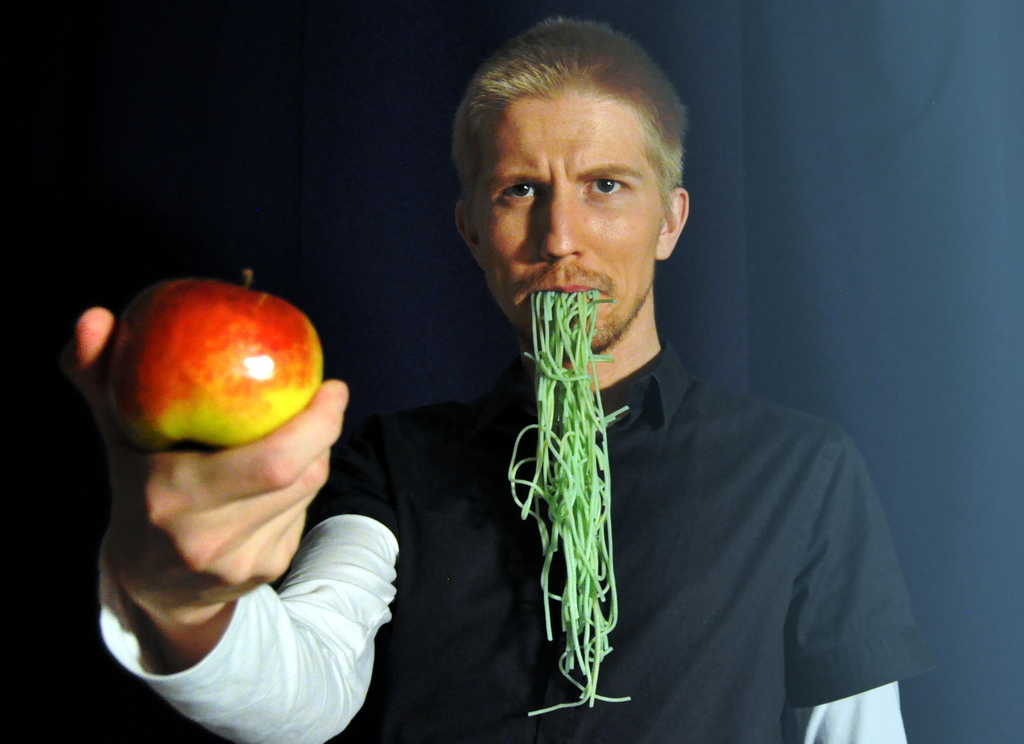Apple: (78, 272, 327, 459)
